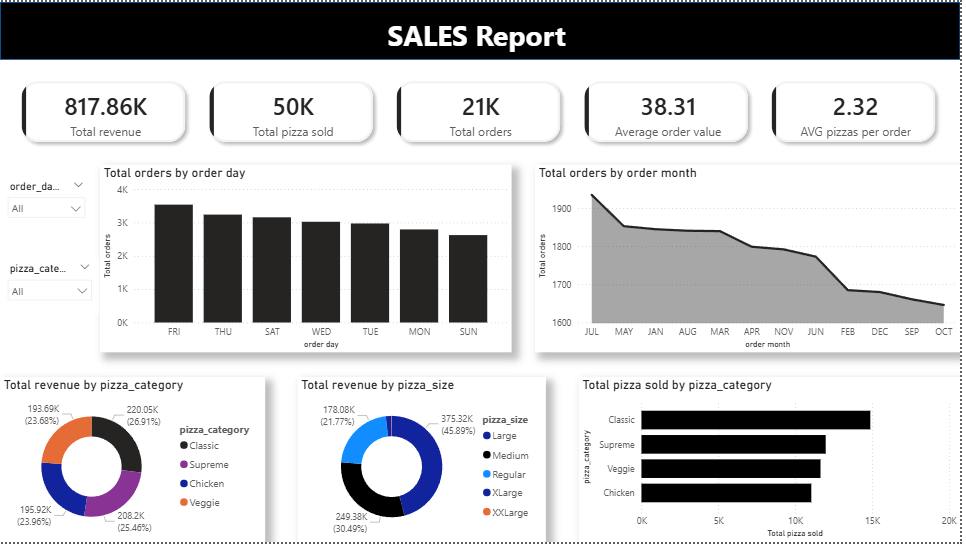

This screenshot's page, from the dashboard's own definition file:
{"tool":"powerbi","page":{"name":"Home","canvas":[1280,720],"ordinal":0},"visuals":[{"type":"cardVisual","fields":{"Data":["pizza_sales.Total revenue","pizza_sales.Total pizza sold","pizza_sales.Total orders","pizza_sales.Average order value","pizza_sales.AVG pizzas per order"]},"box":[0,77,1280.3,139.4],"z":0},{"type":"shape","box":[0,0,1280.3,77],"z":1000},{"type":"textbox","box":[512.4,13.5,288.6,63.6],"z":2000},{"type":"columnChart","fields":{"Category":["pizza_sales.order day"],"Y":["pizza_sales.Total orders"]},"box":[133.3,216.4,549.1,250.7],"z":3000},{"type":"lineChart","fields":{"Category":["pizza_sales.order month"],"Y":["pizza_sales.Total orders"]},"box":[712.9,216.4,567.4,250.7],"z":4000},{"type":"donutChart","fields":{"Category":["pizza_sales.pizza_category"],"Y":["pizza_sales.Total revenue"]},"box":[0,500.1,353.4,220.1],"z":5000},{"type":"donutChart","fields":{"Y":["pizza_sales.Total revenue"],"Category":["pizza_sales.pizza_size"]},"box":[397.4,500.1,331.4,220.1],"z":6000},{"type":"clusteredBarChart","fields":{"Y":["pizza_sales.Total pizza sold"],"Category":["pizza_sales.pizza_category"]},"box":[771.6,500.1,508.7,220.1],"z":7000},{"type":"slicer","fields":{"Values":["pizza_sales.pizza_category"]},"box":[0,342.4,132.1,73.4],"z":8000},{"type":"slicer","fields":{"Values":["pizza_sales.order_date"]},"box":[0,231.1,123.5,83.2],"z":9000}]}

Visuals, with their boxes in screenshot pixels (x1, y1, x2, y2), scaled from the page's 1280x720 canvas onto the 966x544 screenshot:
cardVisual - pizza_sales.Total revenue x pizza_sales.Total pizza sold: x1=0, y1=58, x2=965, y2=164
shape: x1=0, y1=0, x2=965, y2=58
textbox: x1=387, y1=10, x2=605, y2=58
columnChart - pizza_sales.order day x pizza_sales.Total orders: x1=101, y1=164, x2=515, y2=353
lineChart - pizza_sales.order month x pizza_sales.Total orders: x1=538, y1=164, x2=965, y2=353
donutChart - pizza_sales.pizza_category x pizza_sales.Total revenue: x1=0, y1=378, x2=267, y2=543
donutChart - pizza_sales.Total revenue x pizza_sales.pizza_size: x1=300, y1=378, x2=550, y2=543
clusteredBarChart - pizza_sales.Total pizza sold x pizza_sales.pizza_category: x1=582, y1=378, x2=965, y2=543
slicer - pizza_sales.pizza_category: x1=0, y1=259, x2=100, y2=314
slicer - pizza_sales.order_date: x1=0, y1=175, x2=93, y2=237
